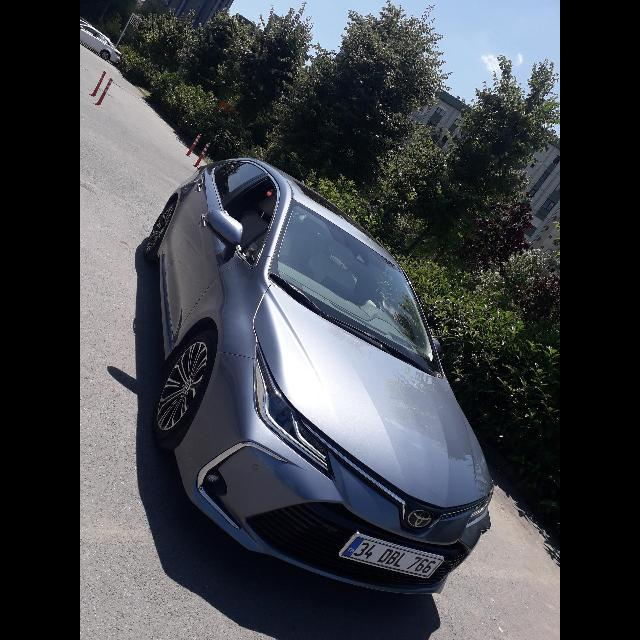Plaka: (339, 534, 443, 576)
